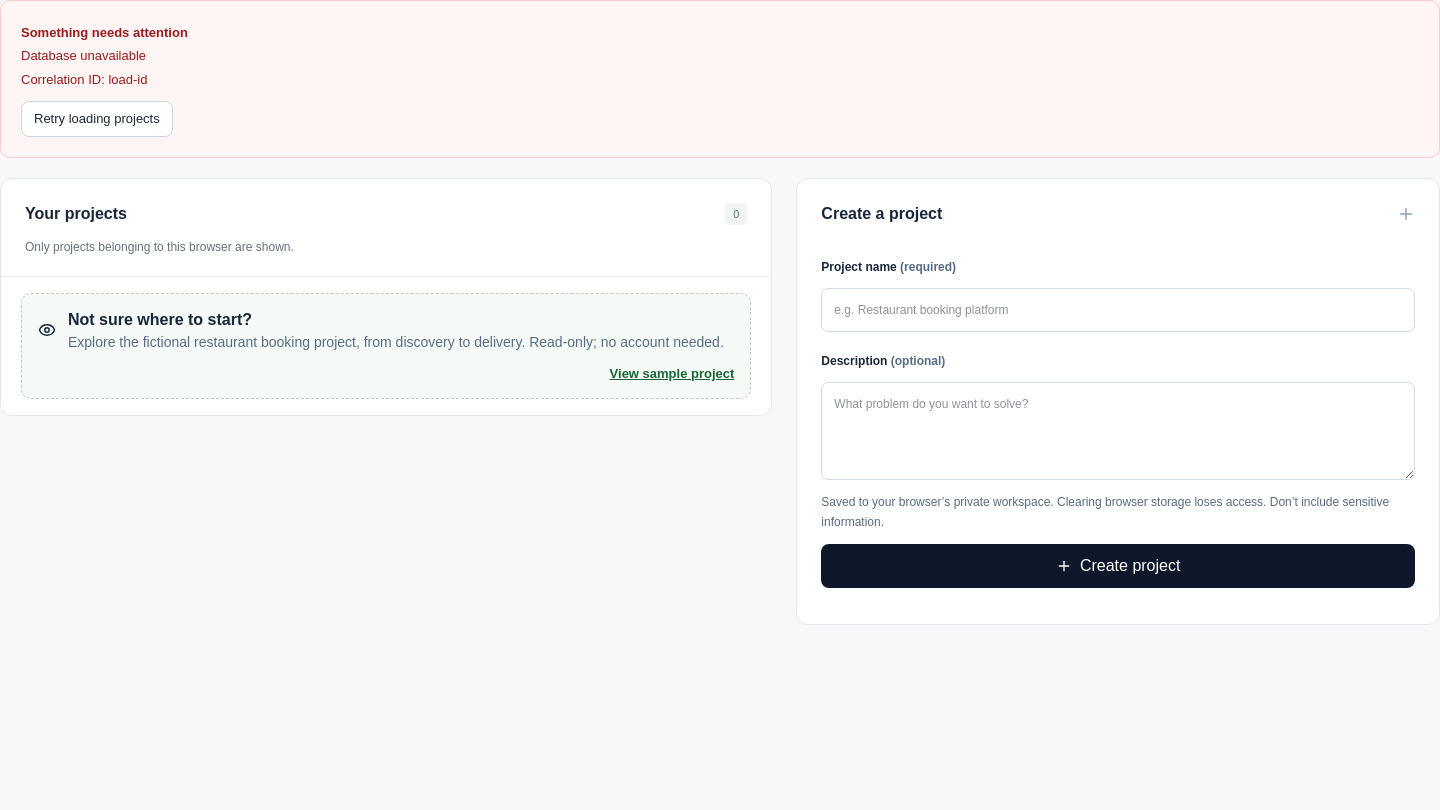
Test: projects › shows standard load errors and lets the user retry
This screenshot has width=1440, height=810.
Expected: the message shows "Database unavailable", [21,48,146,63]
Expected: the message shows "load-id", [108,72,147,87]
What coordinates should you click on to do the following:
click the button "Retry loading projects"
I would click on:
 (97, 119)
Its box is [21,101,173,137].
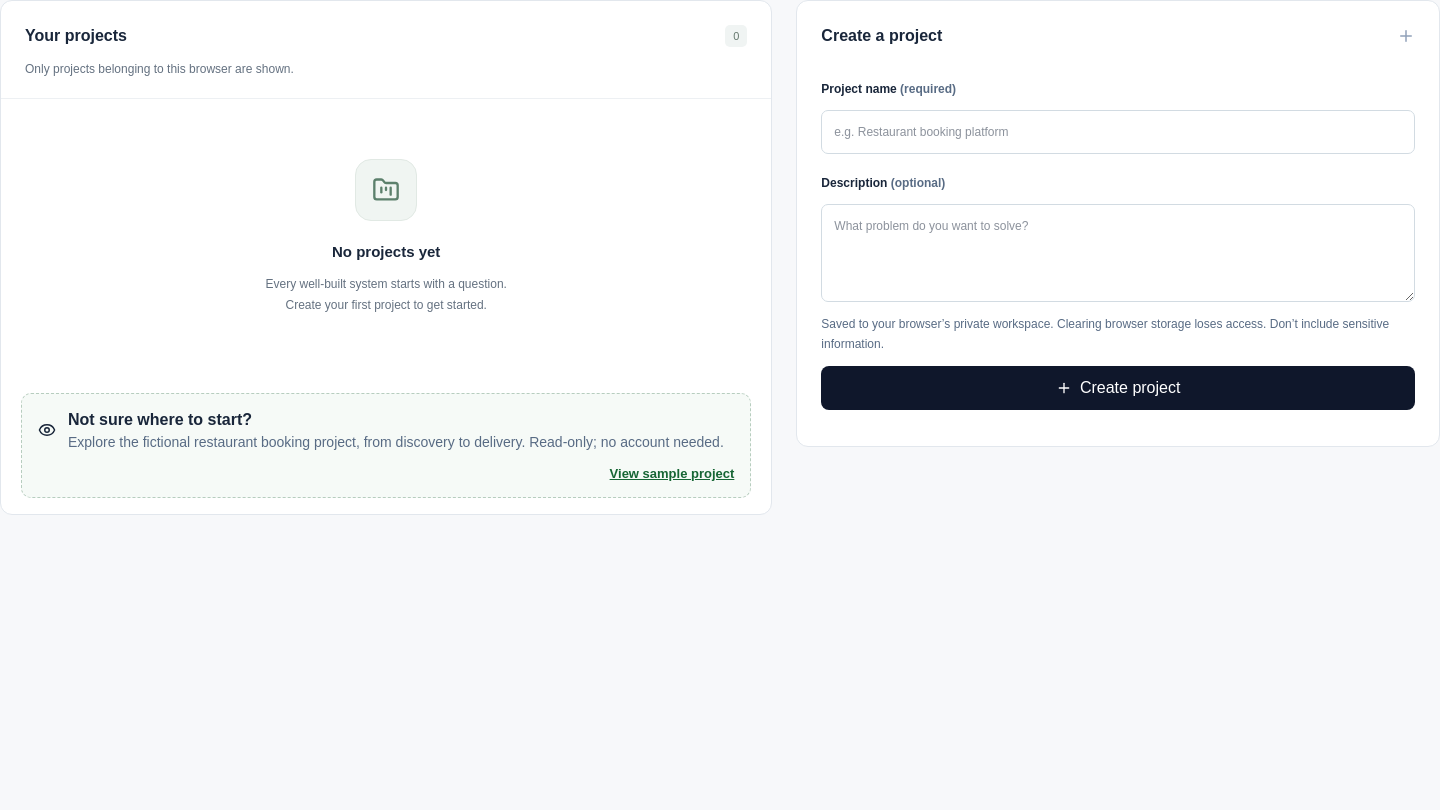
Expected: the heading "No projects yet" is shown, [332,243,440,260]
